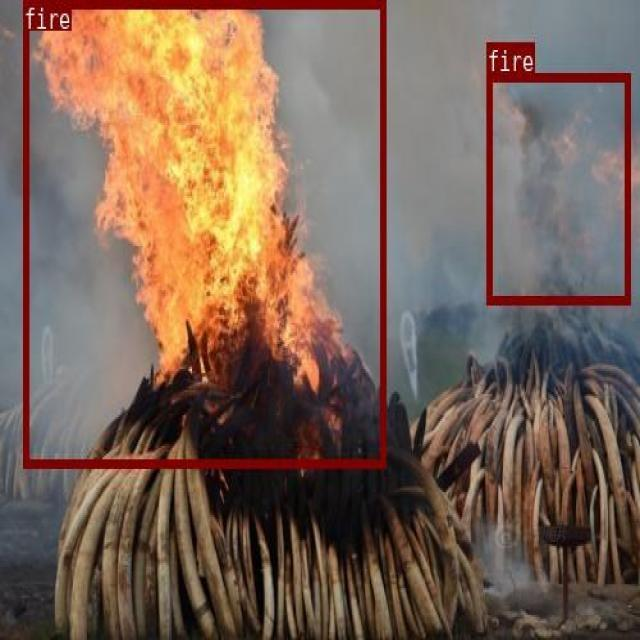fire: (22, 0, 385, 467), (486, 72, 630, 302)
